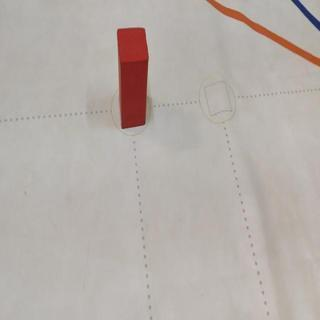redbox: (117, 26, 149, 129)
